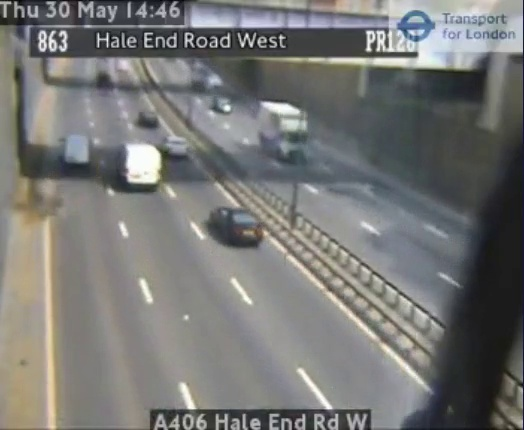car: (212, 207, 263, 244)
van: (120, 144, 162, 187), (65, 136, 89, 161)
